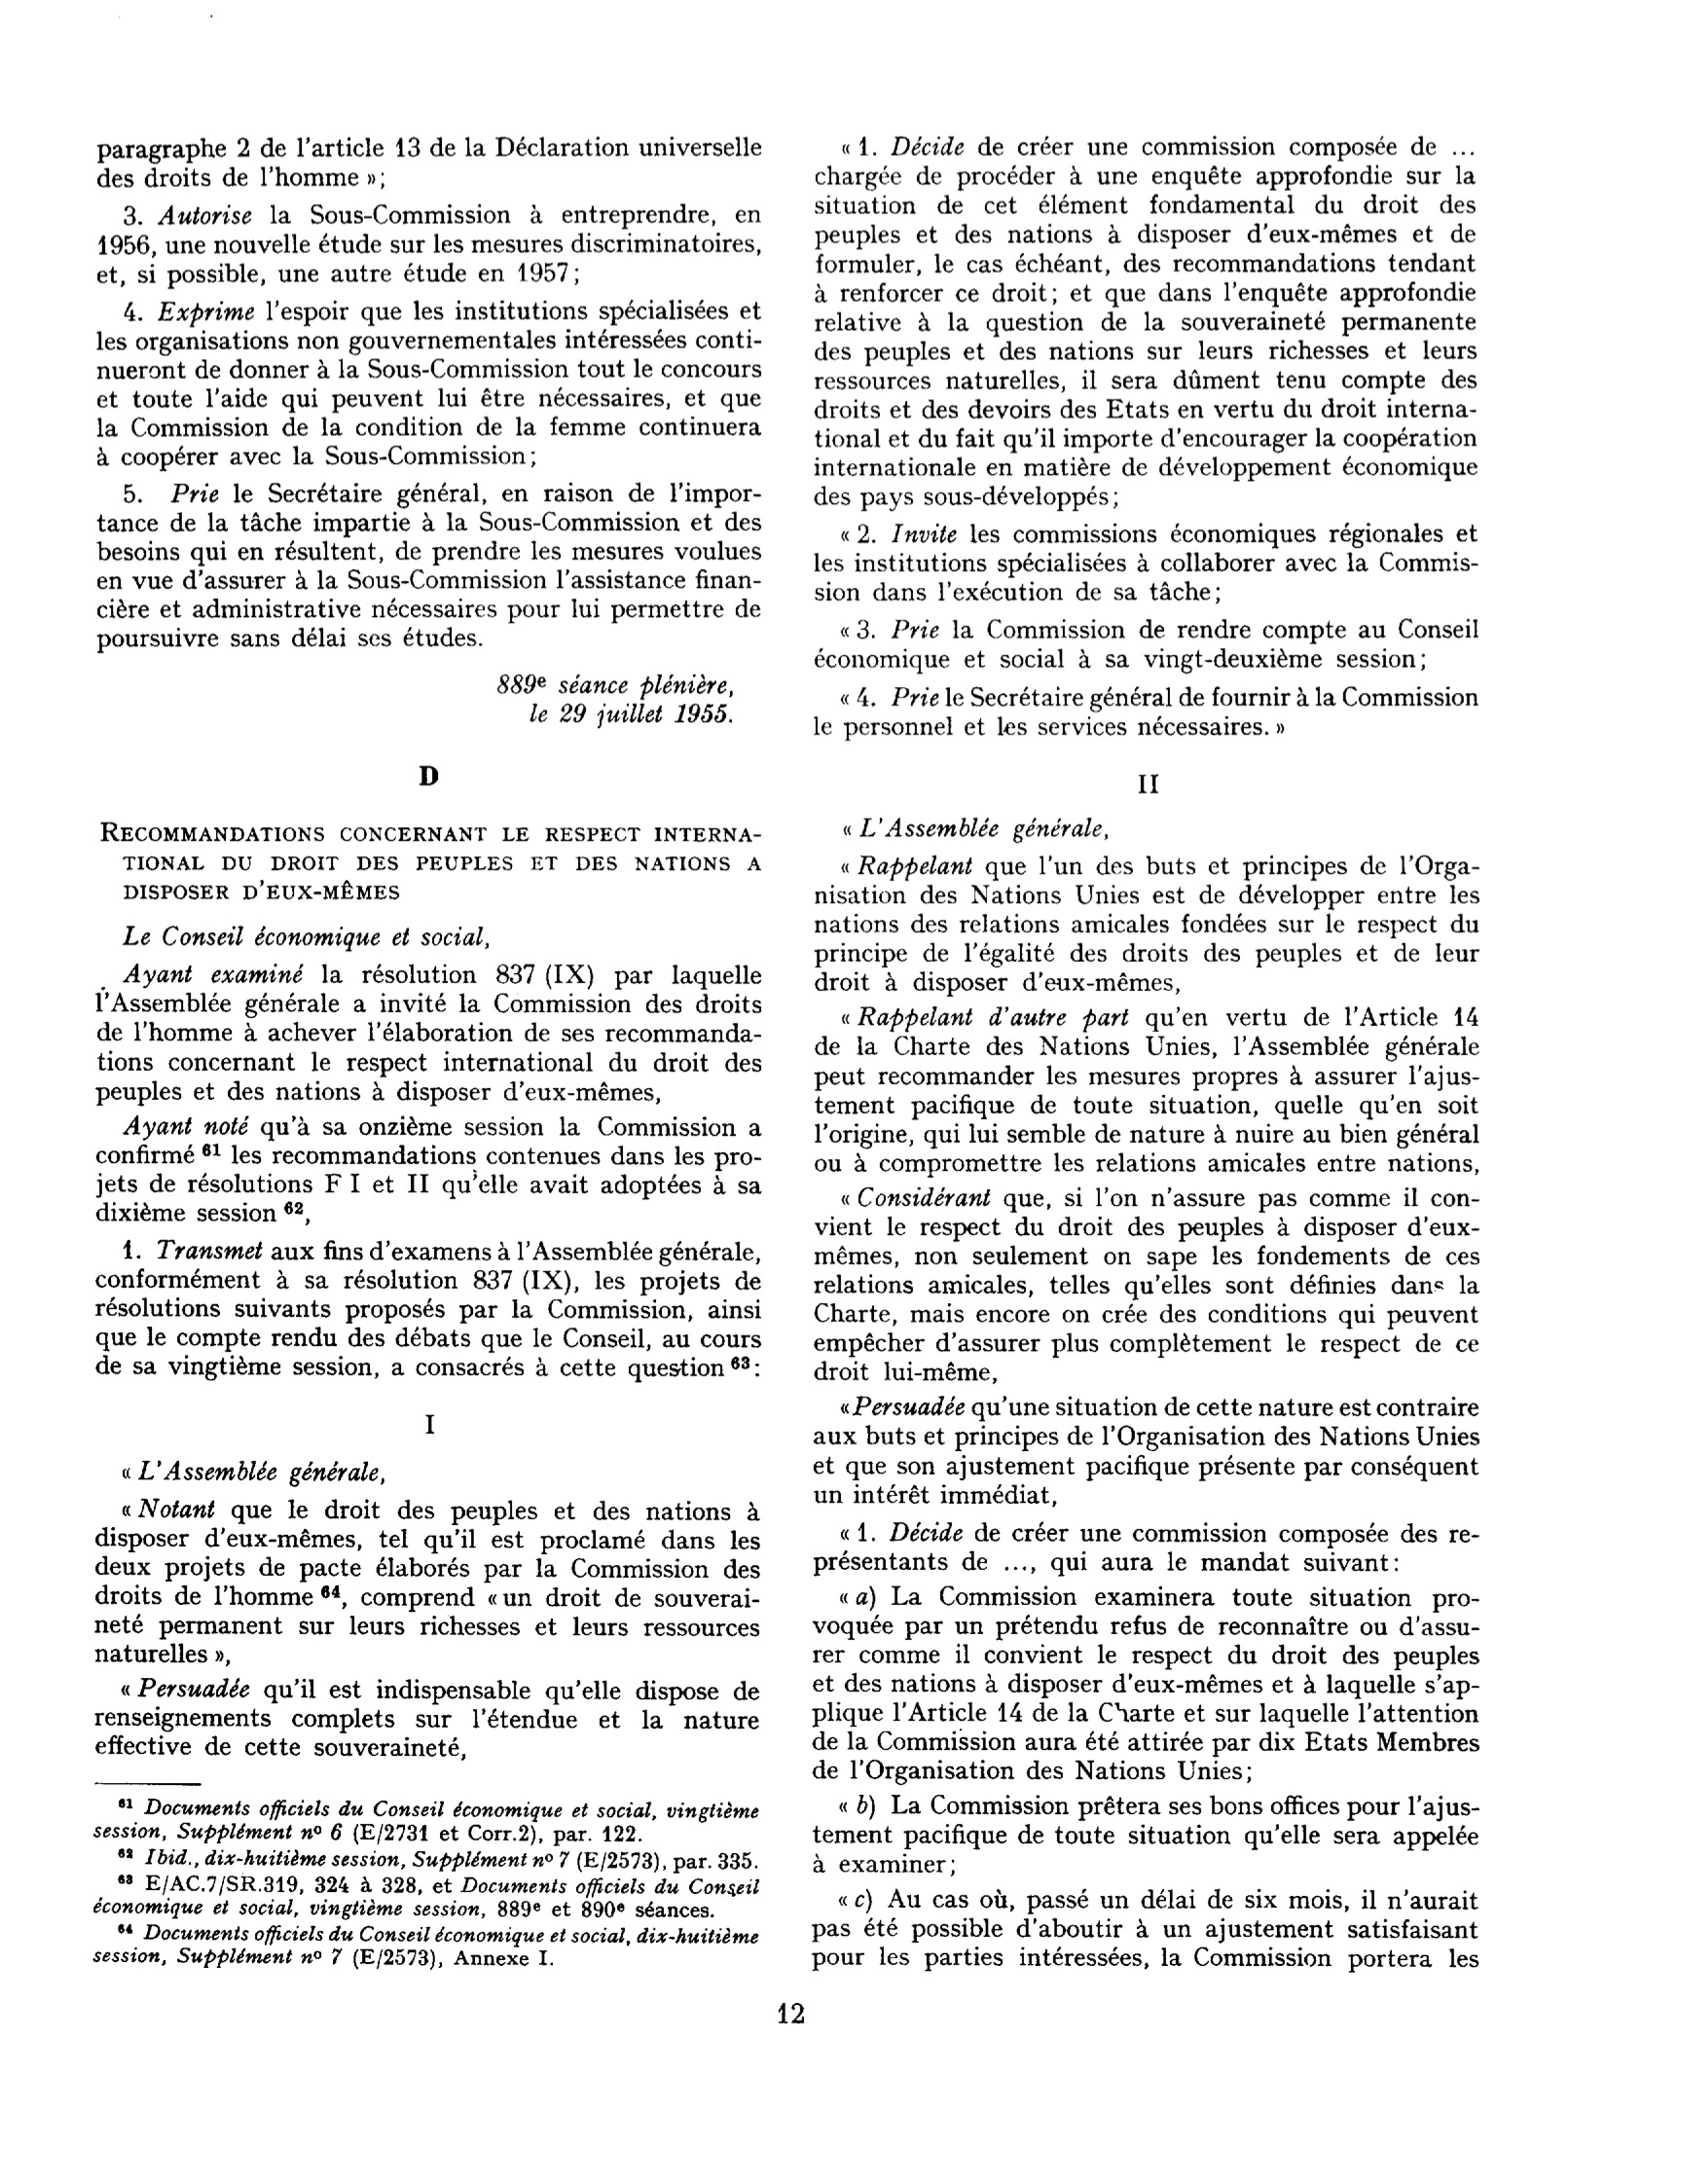MainZone-Continued: (89, 128, 770, 197)
MainZone-Date: (518, 703, 743, 731)
MainZone-Head: (91, 816, 768, 907), (1130, 763, 1166, 803), (414, 756, 445, 797), (420, 1409, 440, 1442)
MainZone-ListItem: (806, 127, 1490, 513), (805, 1580, 1488, 1786), (90, 477, 770, 656), (90, 294, 768, 472), (89, 1233, 768, 1388), (805, 516, 1485, 610), (805, 1882, 1488, 1975), (89, 197, 769, 289), (806, 1789, 1487, 1880), (803, 679, 1485, 748), (804, 612, 1484, 676), (807, 1515, 1487, 1580)
MainZone-P: (809, 1182, 1488, 1386), (808, 1001, 1486, 1181), (88, 1493, 766, 1669), (90, 957, 769, 1108), (808, 849, 1486, 999), (807, 1390, 1487, 1512), (88, 1110, 768, 1229), (87, 1672, 768, 1770), (91, 917, 501, 954), (809, 808, 1121, 847), (100, 1451, 391, 1492)
MainZone-Signature: (484, 664, 752, 701)
MarginTextZone-Notes: (87, 1791, 772, 1843), (85, 1869, 770, 1921), (77, 1923, 762, 1966), (110, 1845, 765, 1871)
NumberingZone: (772, 1996, 812, 2035)
